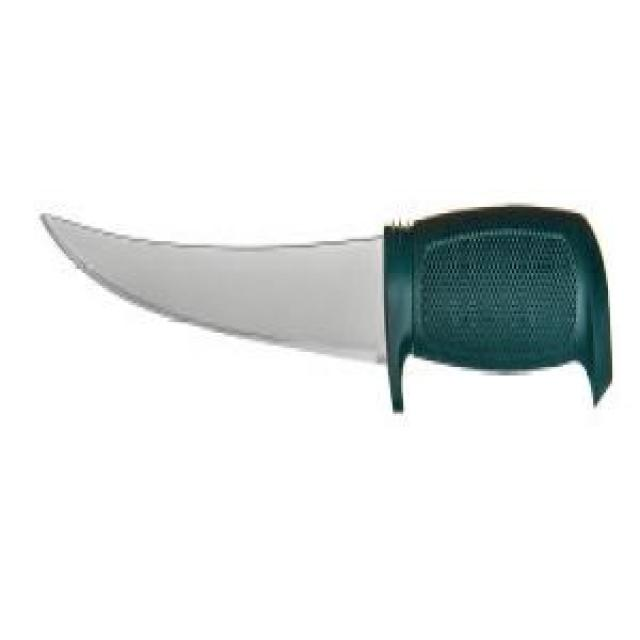knife: (39, 199, 614, 418)
